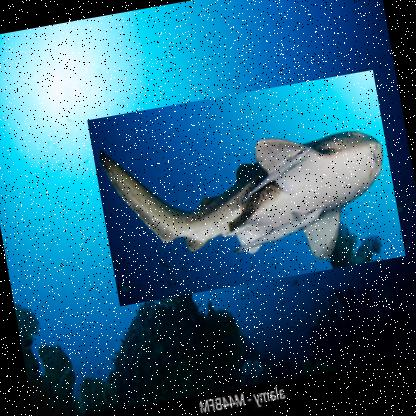zebra_shark: (85, 69, 406, 307)
